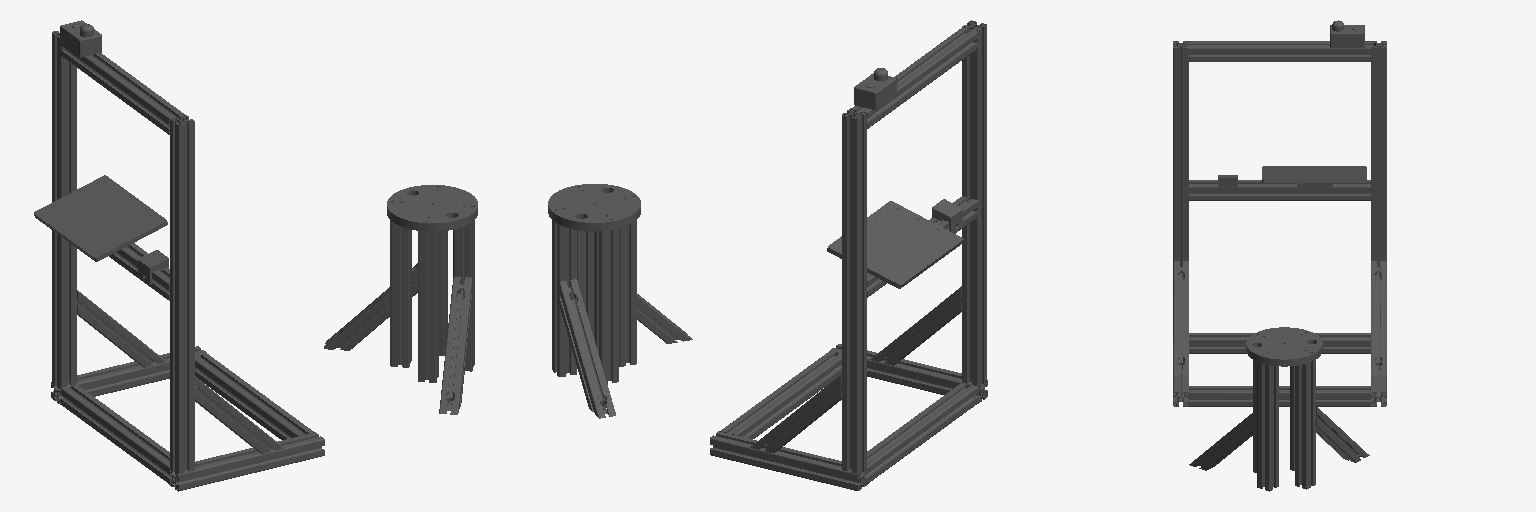
URDF robot description (ridgeback):
<?xml version="1.0" ?>
<!-- =================================================================================== -->
<!-- |    This document was autogenerated by xacro from ridgeback.urdf.xacro           | -->
<!-- |    EDITING THIS FILE BY HAND IS NOT RECOMMENDED                                 | -->
<!-- =================================================================================== -->
<robot name="ridgeback" xmlns:xacro="http://ros.org/wiki/xacro">
  <material name="dark_grey">
    <color rgba="0.2 0.2 0.2 1.0"/>
  </material>
  <material name="light_grey">
    <color rgba="0.4 0.4 0.4 1.0"/>
  </material>
  <material name="red">
    <color rgba="0.8 0.0 0.0 1.0"/>
  </material>
  <material name="white">
    <color rgba="0.9 0.9 0.9 1.0"/>
  </material>
  <material name="yellow">
    <color rgba="0.8 0.8 0.0 1.0"/>
  </material>
  <material name="black">
    <color rgba="0.15 0.15 0.15 1.0"/>
  </material>
  <link name="front_rocker_link">
    <visual>
      <origin rpy="1.57079632679 0 1.57079632679" xyz="0 0 0"/>
      <geometry>
        <mesh filename="assets/ridgeback_description/meshes/rocker.stl"/>
      </geometry>
      <material name="black"/>
    </visual>
    <inertial>
      <origin rpy="1.57079632679 0 1.57079632679" xyz="0 0 0"/>
      <mass value="10.267"/>
      <inertia ixx="0.0288" ixy="2.20484e-6" ixz="-1.3145e-5" iyy="0.4324" iyz="1.8944e-3" izz="0.4130"/>
    </inertial>
  </link>
  <joint name="front_rocker" type="revolute">
    <parent link="axle_link"/>
    <child link="front_rocker_link"/>
    <origin rpy="0 0 0" xyz="0.319 0 0"/>
    <axis xyz="1 0 0"/>
    <limit effort="0" lower="-0.08726" upper="0.08726" velocity="0"/>
  </joint>
  <link name="front_left_wheel_link">
    <visual>
      <origin rpy="1.57079632679 0 0" xyz="0 0 0"/>
      <geometry>
        <mesh filename="assets/ridgeback_description/meshes/wheel.stl"/>
      </geometry>
      <material name="black"/>
    </visual>
    <collision>
      <origin rpy="1.57079632679 0 0" xyz="0 0 0"/>
      <geometry>
        <cylinder length="0.079" radius="0.0759"/>
      </geometry>
    </collision>
    <inertial>
      <origin rpy="0 0 0" xyz="0 0 0"/>
      <mass value="2.3"/>
      <inertia ixx="3.3212e-3" ixy="0" ixz="0" iyy="6.6424e-3" iyz="0" izz="3.3212e-3"/>
    </inertial>
  </link>
  <joint name="front_left_wheel" type="continuous">
    <parent link="front_rocker_link"/>
    <child link="front_left_wheel_link"/>
    <origin rpy="0 0 0" xyz="0 0.2755 0"/>
    <axis xyz="0 1 0"/>
  </joint>
  <transmission name="front_wheel_trans">
    <type>transmission_interface/SimpleTransmission</type>
    <joint name="front_left_wheel">
      <hardwareInterface>hardware_interface/VelocityJointInterface</hardwareInterface>
    </joint>
    <actuator name="front_left_actuator">
      <mechanicalReduction>1</mechanicalReduction>
    </actuator>
  </transmission>
  <link name="front_right_wheel_link">
    <visual>
      <origin rpy="1.57079632679 0 0" xyz="0 0 0"/>
      <geometry>
        <mesh filename="assets/ridgeback_description/meshes/wheel.stl"/>
      </geometry>
      <material name="black"/>
    </visual>
    <collision>
      <origin rpy="1.57079632679 0 0" xyz="0 0 0"/>
      <geometry>
        <cylinder length="0.079" radius="0.0759"/>
      </geometry>
    </collision>
    <inertial>
      <origin rpy="0 0 0" xyz="0 0 0"/>
      <mass value="2.3"/>
      <inertia ixx="3.3212e-3" ixy="0" ixz="0" iyy="6.6424e-3" iyz="0" izz="3.3212e-3"/>
    </inertial>
  </link>
  <joint name="front_right_wheel" type="continuous">
    <parent link="front_rocker_link"/>
    <child link="front_right_wheel_link"/>
    <origin rpy="0 0 0" xyz="0 -0.2755 0"/>
    <axis xyz="0 1 0"/>
  </joint>
  <transmission name="front_wheel_trans">
    <type>transmission_interface/SimpleTransmission</type>
    <joint name="front_right_wheel">
      <hardwareInterface>hardware_interface/VelocityJointInterface</hardwareInterface>
    </joint>
    <actuator name="front_right_actuator">
      <mechanicalReduction>1</mechanicalReduction>
    </actuator>
  </transmission>
  <link name="rear_rocker_link">
    <visual>
      <origin rpy="1.57079632679 0 1.57079632679" xyz="0 0 0"/>
      <geometry>
        <mesh filename="assets/ridgeback_description/meshes/rocker.stl"/>
      </geometry>
      <material name="black"/>
    </visual>
    <inertial>
      <origin rpy="1.57079632679 0 1.57079632679" xyz="0 0 0"/>
      <mass value="10.267"/>
      <inertia ixx="0.0288" ixy="2.20484e-6" ixz="-1.3145e-5" iyy="0.4324" iyz="1.8944e-3" izz="0.4130"/>
    </inertial>
  </link>
  <joint name="rear_rocker" type="fixed">
    <parent link="axle_link"/>
    <child link="rear_rocker_link"/>
    <origin rpy="0 0 0" xyz="-0.319 0 0"/>
    <axis xyz="1 0 0"/>
    <limit effort="0" velocity="0"/>
  </joint>
  <link name="rear_left_wheel_link">
    <visual>
      <origin rpy="1.57079632679 0 0" xyz="0 0 0"/>
      <geometry>
        <mesh filename="assets/ridgeback_description/meshes/wheel.stl"/>
      </geometry>
      <material name="black"/>
    </visual>
    <collision>
      <origin rpy="1.57079632679 0 0" xyz="0 0 0"/>
      <geometry>
        <cylinder length="0.079" radius="0.0759"/>
      </geometry>
    </collision>
    <inertial>
      <origin rpy="0 0 0" xyz="0 0 0"/>
      <mass value="2.3"/>
      <inertia ixx="3.3212e-3" ixy="0" ixz="0" iyy="6.6424e-3" iyz="0" izz="3.3212e-3"/>
    </inertial>
  </link>
  <joint name="rear_left_wheel" type="continuous">
    <parent link="rear_rocker_link"/>
    <child link="rear_left_wheel_link"/>
    <origin rpy="0 0 0" xyz="0 0.2755 0"/>
    <axis xyz="0 1 0"/>
  </joint>
  <transmission name="rear_wheel_trans">
    <type>transmission_interface/SimpleTransmission</type>
    <joint name="rear_left_wheel">
      <hardwareInterface>hardware_interface/VelocityJointInterface</hardwareInterface>
    </joint>
    <actuator name="rear_left_actuator">
      <mechanicalReduction>1</mechanicalReduction>
    </actuator>
  </transmission>
  <link name="rear_right_wheel_link">
    <visual>
      <origin rpy="1.57079632679 0 0" xyz="0 0 0"/>
      <geometry>
        <mesh filename="assets/ridgeback_description/meshes/wheel.stl"/>
      </geometry>
      <material name="black"/>
    </visual>
    <collision>
      <origin rpy="1.57079632679 0 0" xyz="0 0 0"/>
      <geometry>
        <cylinder length="0.079" radius="0.0759"/>
      </geometry>
    </collision>
    <inertial>
      <origin rpy="0 0 0" xyz="0 0 0"/>
      <mass value="2.3"/>
      <inertia ixx="3.3212e-3" ixy="0" ixz="0" iyy="6.6424e-3" iyz="0" izz="3.3212e-3"/>
    </inertial>
  </link>
  <joint name="rear_right_wheel" type="continuous">
    <parent link="rear_rocker_link"/>
    <child link="rear_right_wheel_link"/>
    <origin rpy="0 0 0" xyz="0 -0.2755 0"/>
    <axis xyz="0 1 0"/>
  </joint>
  <transmission name="rear_wheel_trans">
    <type>transmission_interface/SimpleTransmission</type>
    <joint name="rear_right_wheel">
      <hardwareInterface>hardware_interface/VelocityJointInterface</hardwareInterface>
    </joint>
    <actuator name="rear_right_actuator">
      <mechanicalReduction>1</mechanicalReduction>
    </actuator>
  </transmission>
  <link name="base_link"/>
  <joint name="base_link_joint" type="fixed">
    <origin rpy="0 0 0" xyz="0 0 0"/>
    <parent link="base_link"/>
    <child link="chassis_link"/>
  </joint>
  <link name="chassis_link">
    <visual>
      <origin rpy="0 0 0" xyz="0 0 0"/>
      <geometry>
        <mesh filename="assets/ridgeback_description/meshes/body.stl"/>
      </geometry>
      <material name="black"/>
    </visual>
    <collision>
      <origin xyz="0 0 0"/>
      <geometry>
        <mesh filename="assets/ridgeback_description/meshes/body-collision.stl"/>
      </geometry>
    </collision>
    <inertial>
      <origin rpy="1.57079632679 0 1.57079632679" xyz="0.012 0.002 0.067"/>
      <mass value="165.304"/>
      <inertia ixx="4.4744" ixy="0.03098" ixz="0.003647" iyy="7.1624" iyz="0.1228" izz="4.6155"/>
    </inertial>
  </link>
  <joint name="right_side_cover_link_joint" type="fixed">
    <origin rpy="0 0 0" xyz="0 0 0"/>
    <parent link="chassis_link"/>
    <child link="right_side_cover_link"/>
  </joint>
  <joint name="left_side_cover_link_joint" type="fixed">
    <origin rpy="0 0 0" xyz="0 0 0"/>
    <parent link="chassis_link"/>
    <child link="left_side_cover_link"/>
  </joint>
  <link name="left_side_cover_link">
    <visual>
      <origin rpy="0 0 3.14159265359" xyz="0 0 0"/>
      <geometry>
        <mesh filename="assets/ridgeback_description/meshes/side-cover.stl"/>
      </geometry>
      <material name="yellow"/>
    </visual>
  </link>
  <link name="right_side_cover_link">
    <visual>
      <origin rpy="0 0 0" xyz="0 0 0"/>
      <geometry>
        <mesh filename="assets/ridgeback_description/meshes/side-cover.stl"/>
      </geometry>
      <material name="yellow"/>
    </visual>
  </link>
  <joint name="front_cover_link_joint" type="fixed">
    <origin rpy="0 0 0" xyz="0 0 0"/>
    <parent link="chassis_link"/>
    <child link="front_cover_link"/>
  </joint>
  <link name="front_cover_link">
    <visual>
      <origin rpy="0 0 0" xyz="0 0 0"/>
      <geometry>
        <mesh filename="assets/ridgeback_description/meshes/end-cover.stl"/>
      </geometry>
      <material name="black"/>
    </visual>
  </link>
  <joint name="rear_cover_link_joint" type="fixed">
    <origin rpy="0 0 0" xyz="0 0 0"/>
    <parent link="chassis_link"/>
    <child link="rear_cover_link"/>
  </joint>
  <link name="rear_cover_link">
    <visual>
      <origin rpy="0 0 3.14159265359" xyz="0 0 0"/>
      <geometry>
        <mesh filename="assets/ridgeback_description/meshes/end-cover.stl"/>
      </geometry>
      <material name="black"/>
    </visual>
  </link>
  <joint name="front_lights_link_joint" type="fixed">
    <origin rpy="0 0 0" xyz="0 0 0"/>
    <parent link="chassis_link"/>
    <child link="front_lights_link"/>
  </joint>
  <joint name="rear_lights_link_joint" type="fixed">
    <origin rpy="0 0 0" xyz="0 0 0"/>
    <parent link="chassis_link"/>
    <child link="rear_lights_link"/>
  </joint>
  <link name="front_lights_link">
    <visual>
      <origin rpy="0 0 0" xyz="0 0 0"/>
      <geometry>
        <mesh filename="assets/ridgeback_description/meshes/lights.stl"/>
      </geometry>
      <material name="white"/>
    </visual>
  </link>
  <link name="rear_lights_link">
    <visual>
      <origin rpy="0 0 3.14159265359" xyz="0 0 0"/>
      <geometry>
        <mesh filename="assets/ridgeback_description/meshes/lights.stl"/>
      </geometry>
      <material name="red"/>
    </visual>
  </link>
  <joint name="top_link_joint" type="fixed">
    <origin rpy="0 0 0" xyz="0 0 0"/>
    <parent link="chassis_link"/>
    <child link="top_link"/>
  </joint>
  <link name="top_link">
    <visual>
      <origin rpy="0 0 0" xyz="0 0 0"/>
      <geometry>
        <mesh filename="assets/ridgeback_description/meshes/top.stl"/>
      </geometry>
      <material name="black"/>
    </visual>
    <collision>
      <origin rpy="0 0 0" xyz="0 0 0"/>
      <geometry>
        <mesh filename="assets/ridgeback_description/meshes/top.stl"/>
      </geometry>
    </collision>
  </link>
  <joint name="axle_joint" type="fixed">
    <origin rpy="0 0 0" xyz="0 0 0.05"/>
    <parent link="chassis_link"/>
    <child link="axle_link"/>
  </joint>
  <link name="axle_link">
    <visual>
      <origin rpy="0 1.57079632679 0" xyz="0 0 0"/>
      <geometry>
        <mesh filename="assets/ridgeback_description/meshes/axle.stl"/>
      </geometry>
      <material name="black"/>
    </visual>
  </link>
  <link name="imu_link">
    <inertial>
      <mass value="0.001"/>
      <origin rpy="0 0 0" xyz="0 0 0"/>
      <inertia ixx="1e-09" ixy="0.0" ixz="0.0" iyy="1e-09" iyz="0.0" izz="1e-09"/>
    </inertial>
  </link>
  <joint name="imu_joint" type="fixed">
    <parent link="chassis_link"/>
    <child link="imu_link"/>
    <origin rpy="0 0 0" xyz="0.2085 -0.2902 0.1681"/>
  </joint>
  <link name="mid_mount"/>
  <joint name="mid_mount_joint" type="fixed">
    <parent link="base_link"/>
    <child link="mid_mount"/>
    <origin rpy="0 0 0" xyz="0 0 0.28"/>
  </joint>

  <link name="arch_link">
  <visual>
    <origin rpy="1.570795 0 0" xyz="0.0 0.0 0.0"/>
    <geometry>
      <mesh filename="assets/ridgeback_description/meshes/tor11_mech.stl" />
    </geometry>
    <material name="light_grey"/>
  </visual>

  <collision>
    <origin rpy="1.570795 0 0" xyz="0.0 0.0 0.0"/>
    <geometry>
      <mesh filename="assets/ridgeback_description/meshes/tor11_mech.stl" />
    </geometry>
  </collision>
 </link>

<joint name="arch_joint" type="fixed">
  <origin xyz="0 0 0.278" rpy="0 0 1.57" />
  <parent link="top_link" />
  <child link="arch_link" />
</joint>

  <!-- Bring in simulation data for Gazebo. -->
  <!-- <xacro:include filename="$(find ridgeback_description)/urdf/ridgeback.gazebo" /> -->
  <!-- Optional standard accessories, including their simulation data. The rendering
       of these into the final description is controlled by optenv variables, which
       default each one to off.-->
  <!-- <xacro:include filename="$(find ridgeback_description)/urdf/accessories.urdf.xacro" /> -->
  <!-- Optional custom includes. -->
  <!-- <xacro:include filename="$(optenv RIDGEBACK_URDF_EXTRAS empty.urdf)" /> -->
</robot>

--- Render facts (derived) ---
Views: 3 orthographic renders of the robot side by side, from view 1: azimuth 30°, elevation 25°; view 2: azimuth 150°, elevation 25°; view 3: azimuth 270°, elevation 25°.
Robot: ridgeback — 19 links, 18 joints (1 revolute, 4 continuous, 13 fixed); root link base_link; default pose: every joint at zero.
Visible links, largest first — view 1: arch_link; view 2: arch_link; view 3: arch_link.
Link boxes in pixels (left/top/right/bottom): arch_link: left=34, top=20, right=477, bottom=491; arch_link: left=548, top=20, right=987, bottom=490; arch_link: left=1173, top=20, right=1386, bottom=491.
Size in the robot's own frame: 0.9356 by 0.5303 by 0.9 metres.
1 mesh visuals loaded from 9 distinct referenced files (1 binary STL); not drawn: 15 (reference not matched to a file when rendering).